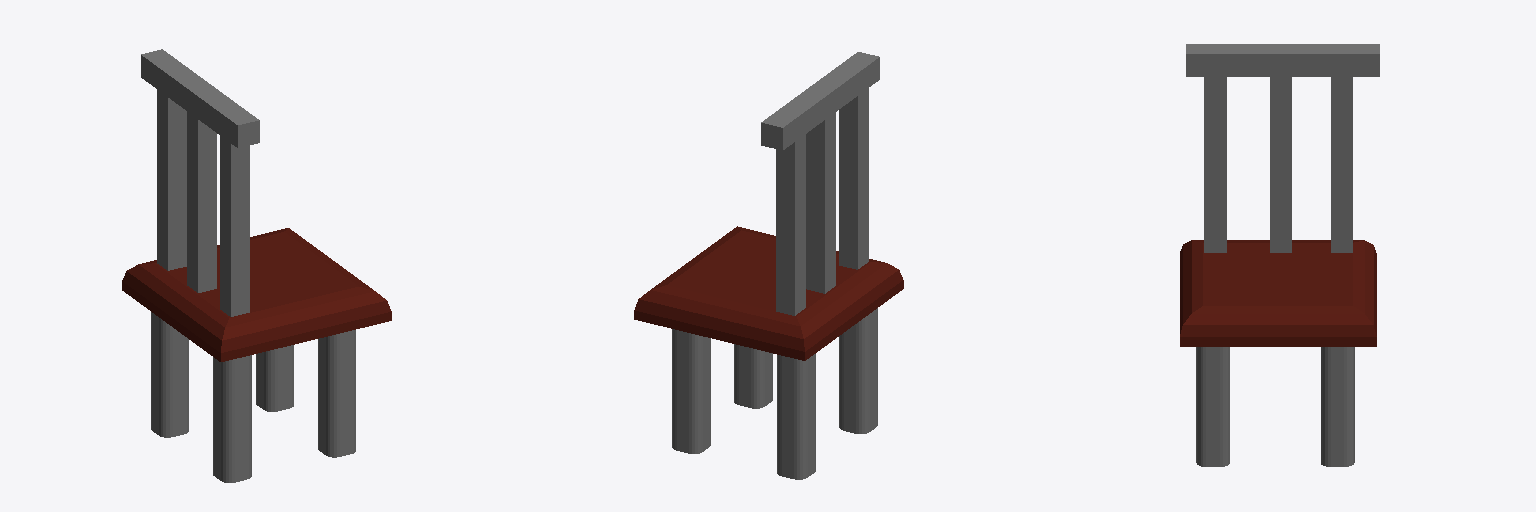
Rendered from Lab3Chair.obj.
The picture shows the model from 3 angles: view 1: azimuth 30°, elevation 25°; view 2: azimuth 150°, elevation 25°; view 3: azimuth 270°, elevation 25°; orthographic projection.
Visible parts, largest first — view 1: pCube3, pCube3 pCube8, pCube3 pCube13, pCube3 pCube14, pCube3 pCube12, pCube3 pCube4, pCube3 pCube5, pCube3 pCube7, pCube3 pCube6; view 2: pCube3, pCube3 pCube14, pCube3 pCube8, pCube3 pCube13, pCube3 pCube12, pCube3 pCube7, pCube3 pCube6, pCube3 pCube4, pCube3 pCube5; view 3: pCube3, pCube3 pCube12, pCube3 pCube5, pCube3 pCube6, pCube3 pCube8, pCube3 pCube13, pCube3 pCube14.
Boxes of the visible parts, x1,y1,x2,y2 form: pCube3: [122, 228, 391, 361]; pCube3 pCube8: [220, 136, 249, 316]; pCube3 pCube13: [187, 112, 216, 292]; pCube3 pCube14: [157, 90, 186, 270]; pCube3 pCube12: [141, 49, 259, 147]; pCube3 pCube4: [213, 355, 251, 482]; pCube3 pCube5: [318, 330, 355, 457]; pCube3 pCube7: [151, 312, 188, 437]; pCube3 pCube6: [256, 345, 293, 411]; pCube3: [634, 226, 903, 360]; pCube3 pCube14: [776, 134, 805, 315]; pCube3 pCube8: [839, 88, 868, 269]; pCube3 pCube13: [806, 112, 835, 293]; pCube3 pCube12: [761, 52, 879, 150]; pCube3 pCube7: [777, 354, 815, 479]; pCube3 pCube6: [672, 329, 710, 453]; pCube3 pCube4: [839, 308, 877, 433]; pCube3 pCube5: [734, 344, 772, 408]; pCube3: [1180, 240, 1376, 346]; pCube3 pCube12: [1186, 44, 1379, 76]; pCube3 pCube5: [1196, 347, 1229, 466]; pCube3 pCube6: [1321, 347, 1354, 466]; pCube3 pCube8: [1204, 77, 1226, 252]; pCube3 pCube13: [1270, 77, 1291, 252]; pCube3 pCube14: [1331, 77, 1352, 252].
Size of the model in its own units: 5.81 by 11.74 by 5.91.